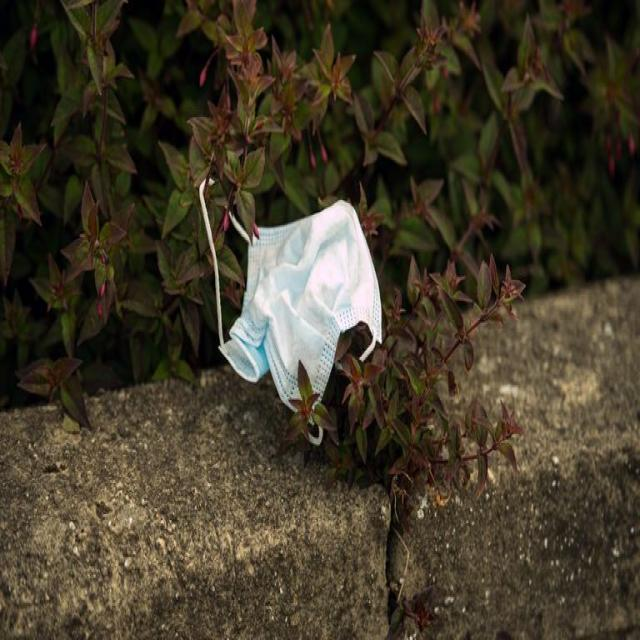face mask: (197, 170, 380, 437)
